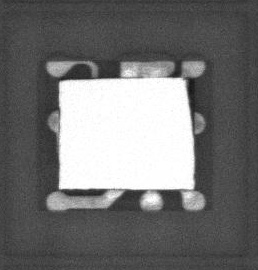DIE_BROKEN: (181, 77, 194, 120)
